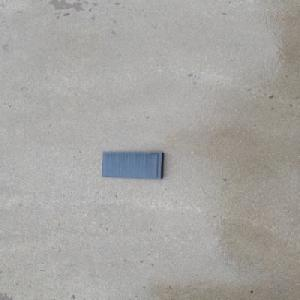PlasticPart: (98, 150, 166, 180)
